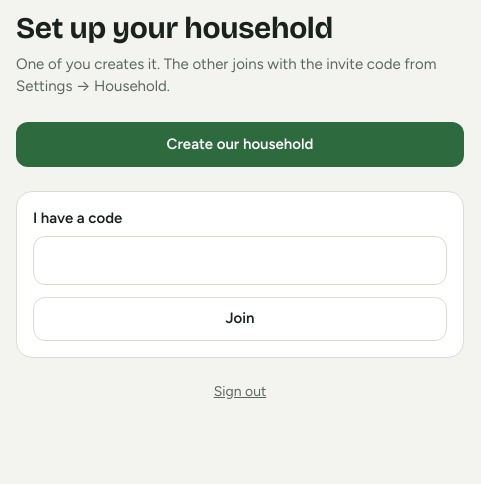
too many wrong codes says to wait
The image size is (481, 484).
Type "ABCD234567" into the field labelled "I have a code".
click(240, 261); type("ABCD234567")  # box [33, 236, 447, 285]
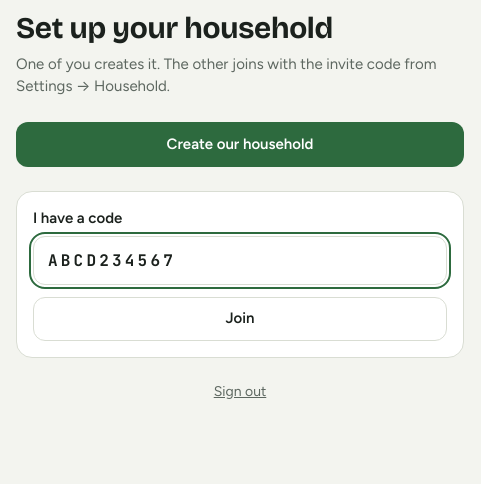
Click the button "Join".
click(240, 319)  # box [33, 297, 447, 341]
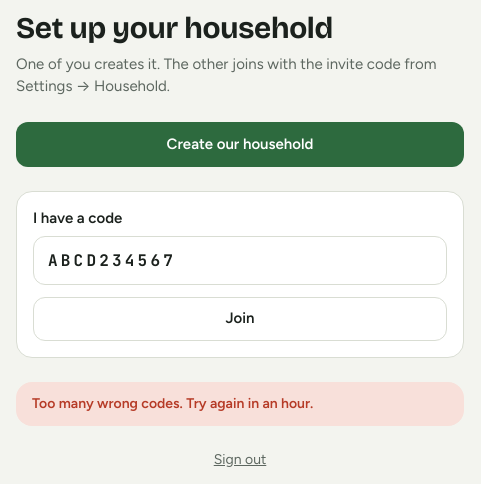
Expected: the message reads "Too many wrong codes. Try again in an hour.", [32, 395, 313, 412]
